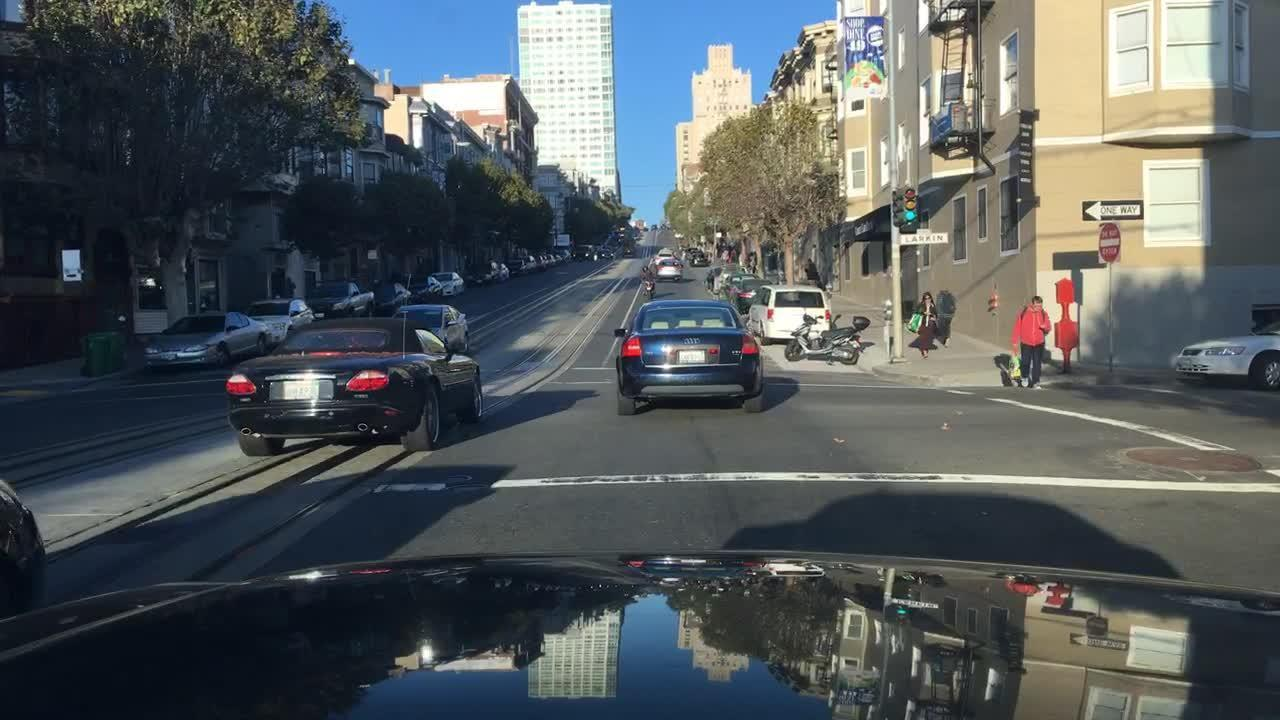Audi: (680, 336, 710, 350)
